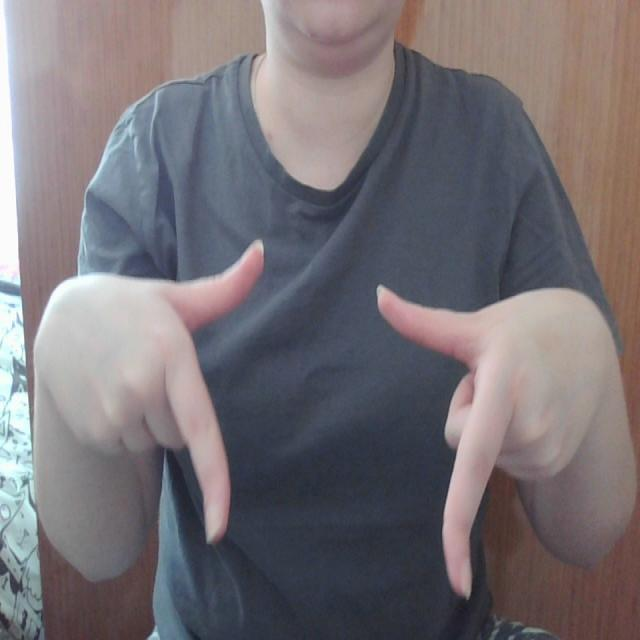Nerede: (158, 233, 526, 601)
